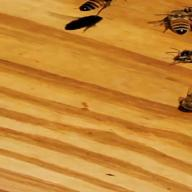Bee: (154, 5, 192, 38), (77, 0, 121, 21)
